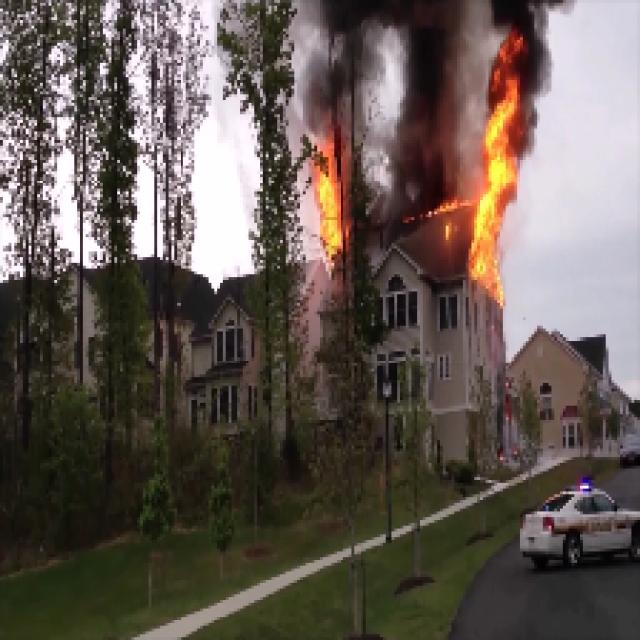fire: (472, 43, 519, 294), (309, 141, 346, 258)
smoke: (298, 4, 467, 135), (353, 142, 452, 264)
